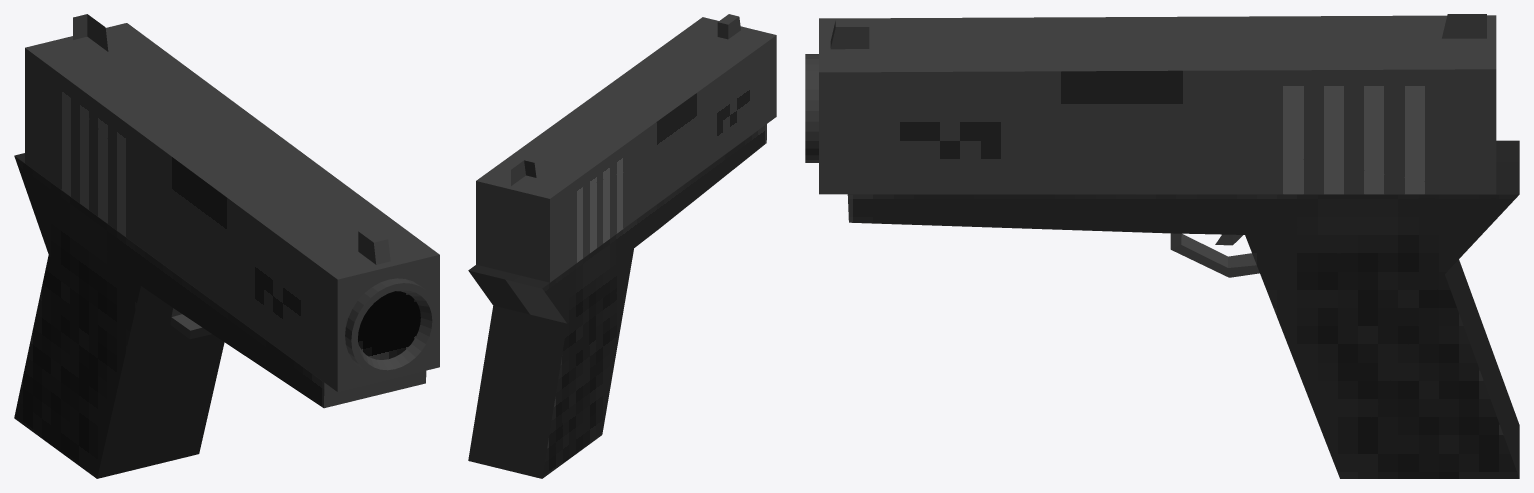
File: Gun.glb
3 views of the same model, side by side, from view 1: azimuth 30°, elevation 25°; view 2: azimuth 150°, elevation 25°; view 3: azimuth 270°, elevation 25° (orthographic). The views are drawn at different scales.
Parts seen in each view (by area): view 1: Cube; view 2: Cube; view 3: Cube.
Part boxes in pixels (bbox=[...]): Cube: bbox=[14, 14, 439, 478]; Cube: bbox=[468, 14, 776, 478]; Cube: bbox=[805, 14, 1519, 478].
Size of the model in its own units: 0.8137 by 3.05 by 4.55.
Materials: 1 (1 with a texture image).
